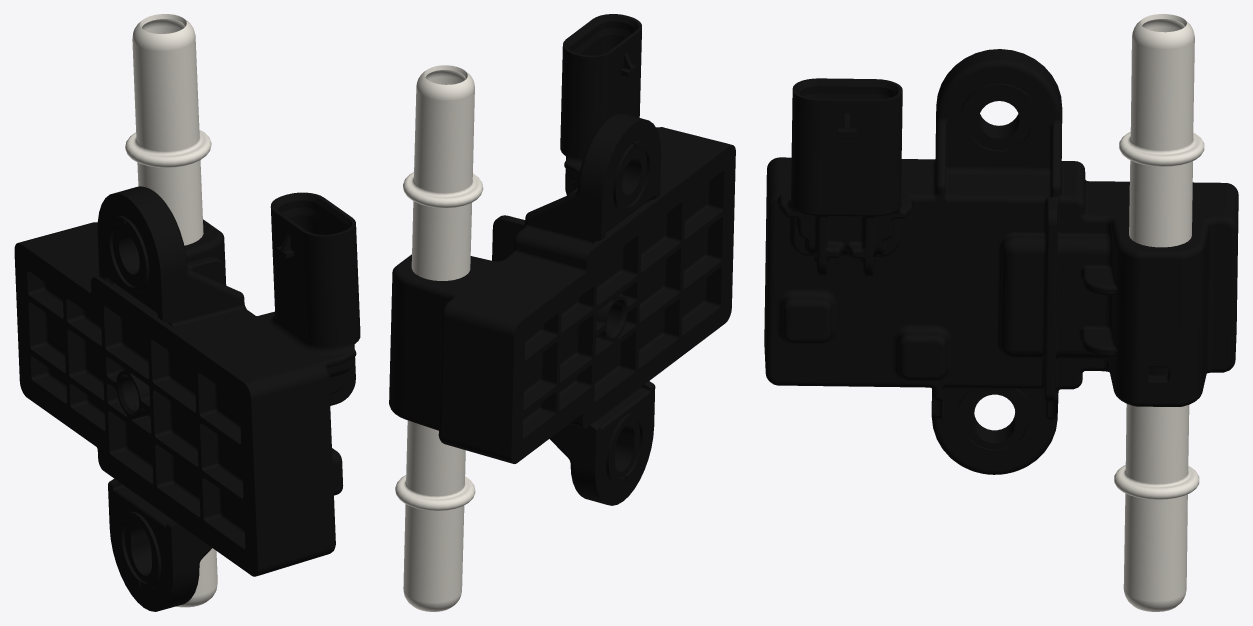
Rendered from Flex Fuel sensore.glb.
3 views of the same model, side by side, from view 1: azimuth 30°, elevation 25°; view 2: azimuth 150°, elevation 25°; view 3: azimuth 270°, elevation 25° (orthographic). The views are drawn at different scales.
Parts seen in each view (by area): view 1: final bike mod.045, final bike mod.059; view 2: final bike mod.045, final bike mod.059; view 3: final bike mod.045, final bike mod.059.
Boxes of the visible parts, x1,y1,x2,y2 form: final bike mod.045: (14, 186, 360, 611); final bike mod.059: (125, 14, 217, 607); final bike mod.045: (389, 14, 735, 505); final bike mod.059: (395, 65, 483, 611); final bike mod.045: (764, 49, 1238, 474); final bike mod.059: (1114, 14, 1204, 611).
Bounding box in the file's own units: 0.2358 × 0.7493 × 0.5631.
2 materials, 1 textured.
